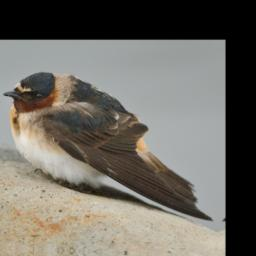Swallow: (0, 70, 221, 222)
